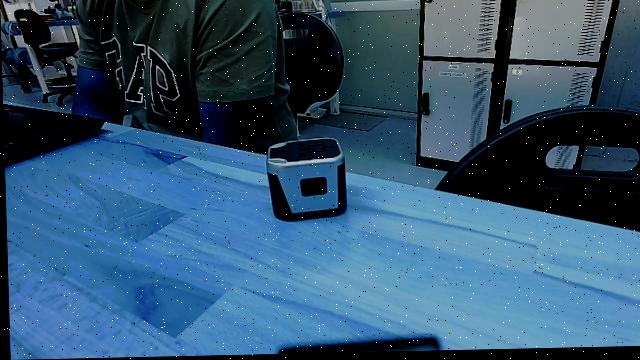adapter: (260, 135, 352, 229)
